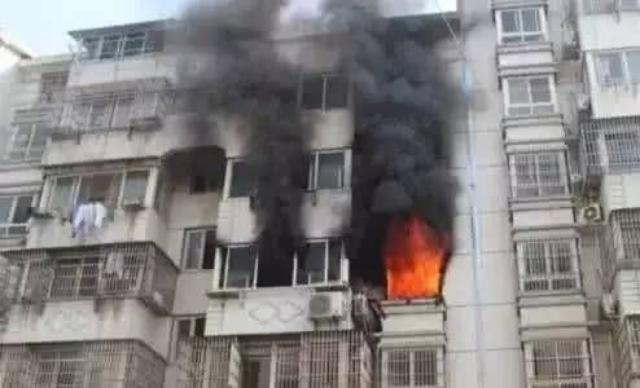fire: (384, 219, 438, 296)
